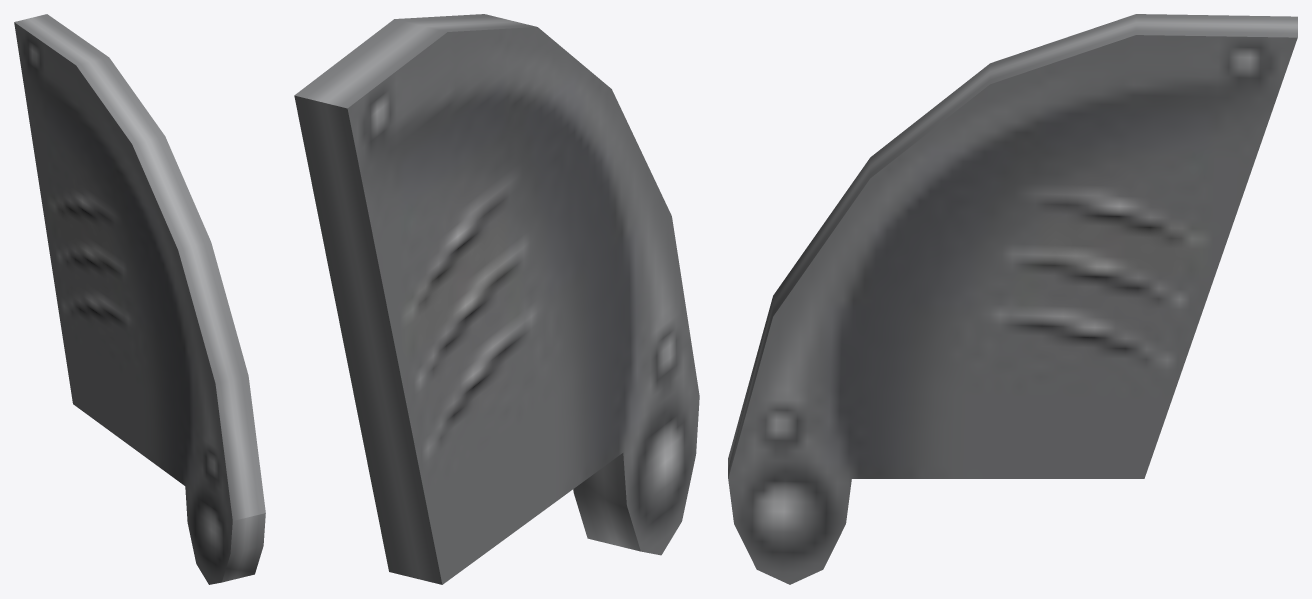
File: acc_14.glb
3 views of the same model, side by side, from view 1: azimuth 30°, elevation 25°; view 2: azimuth 150°, elevation 25°; view 3: azimuth 270°, elevation 25° (orthographic). The views are drawn at different scales.
Parts seen in each view (by area): view 1: vertex; view 2: vertex; view 3: vertex.
Part boxes in pixels (<box>): vertex: <box>14,14,265,584</box>; vertex: <box>294,14,699,584</box>; vertex: <box>728,14,1297,584</box>.
Size of the model in its own units: 0.0586 by 0.7145 by 0.6708.
1 material, 1 textured.
